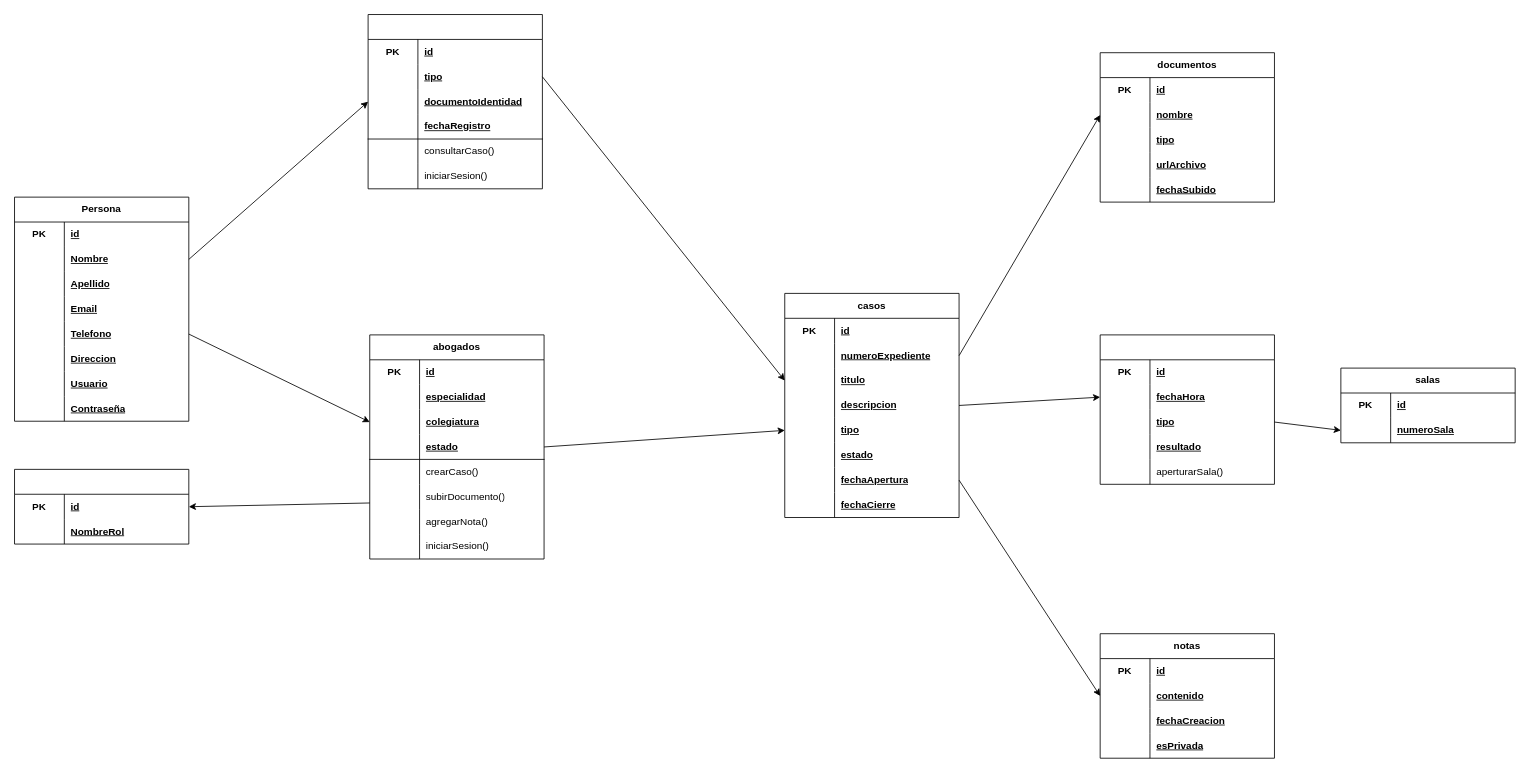
The diagram is 1530 pixels wide and 773 high, and some of its shapes have lost their labels. Here are the shapes that lost their labels. From the top down, the box of each, then its label:
(367, 14, 542, 189): clientes
(1099, 334, 1274, 484): audiencias
(14, 469, 189, 544): Roles
